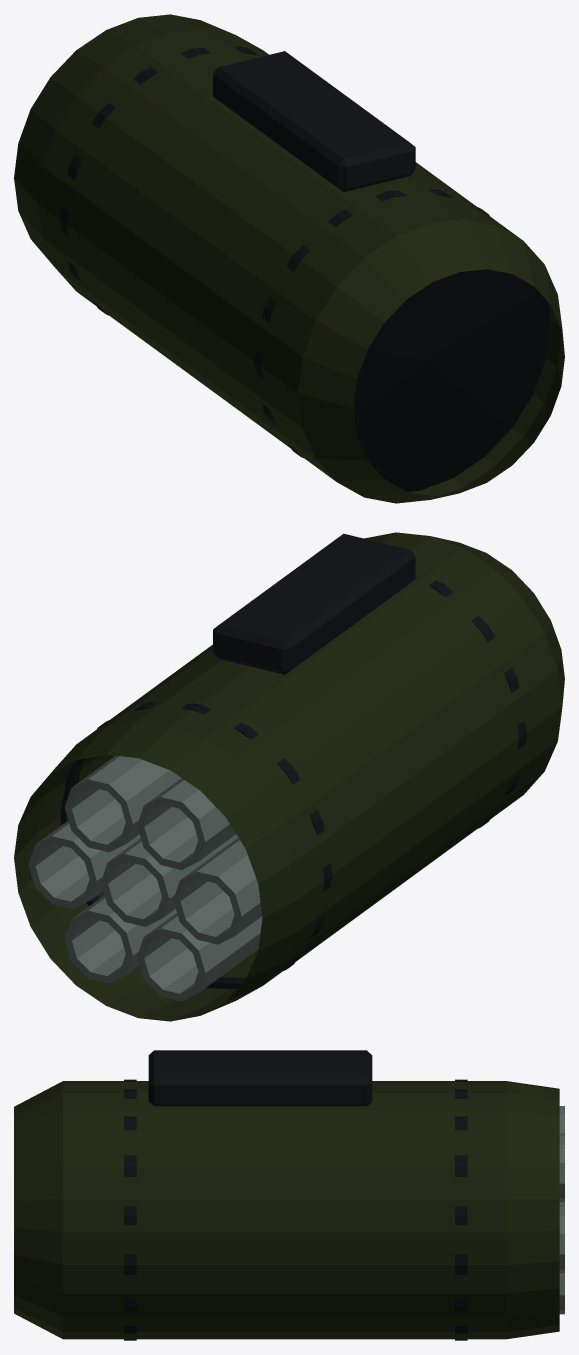
The model's file is Rocket70Seven__Empty.obj.
The picture shows the model from 3 angles, top to bottom: view 1: azimuth 30°, elevation 25°; view 2: azimuth 150°, elevation 25°; view 3: azimuth 270°, elevation 25°; orthographic projection. The views are drawn at different scales.
Parts seen in each view (by area): view 1: Pod_aerodynamic_outer_shell, Rear_bulkhead, Mount_lug, Identification_band, Identification_band.001; view 2: Pod_aerodynamic_outer_shell, Mount_lug, Tube_03, Tube_05, Tube_06, Tube_04, Tube_01, Tube_02, Tube_07, Identification_band.001, Identification_band; view 3: Pod_aerodynamic_outer_shell, Mount_lug, Identification_band, Identification_band.001, Tube_02, Tube_03.
Boxes of the visible parts, <box> form: Pod_aerodynamic_outer_shell: <box>14,14,564,503</box>; Rear_bulkhead: <box>353,269,550,491</box>; Mount_lug: <box>213,51,415,192</box>; Identification_band: <box>254,189,489,457</box>; Identification_band.001: <box>59,46,258,315</box>; Pod_aerodynamic_outer_shell: <box>14,532,564,1021</box>; Mount_lug: <box>213,533,415,674</box>; Tube_03: <box>64,755,180,852</box>; Tube_05: <box>173,837,261,944</box>; Tube_06: <box>137,913,262,1001</box>; Tube_04: <box>137,778,235,869</box>; Tube_01: <box>101,834,238,926</box>; Tube_02: <box>28,821,140,909</box>; Tube_07: <box>64,895,176,983</box>; Identification_band.001: <box>60,702,332,988</box>; Identification_band: <box>428,580,527,828</box>; Pod_aerodynamic_outer_shell: <box>14,1081,559,1339</box>; Mount_lug: <box>148,1050,372,1106</box>; Identification_band: <box>124,1079,136,1340</box>; Identification_band.001: <box>455,1079,467,1340</box>; Tube_02: <box>559,1207,564,1273</box>; Tube_03: <box>559,1136,564,1202</box>.
Bounding box in the file's own units: 0.5835 × 0.6517 × 1.23.
